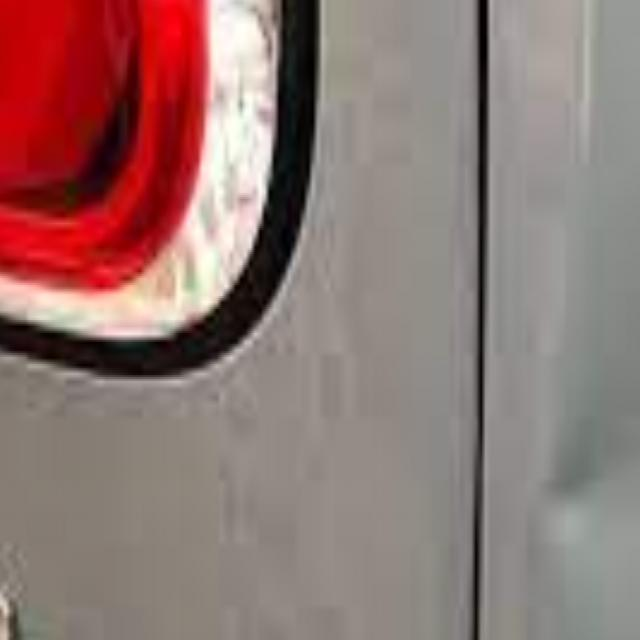dents: (530, 433, 623, 585)
